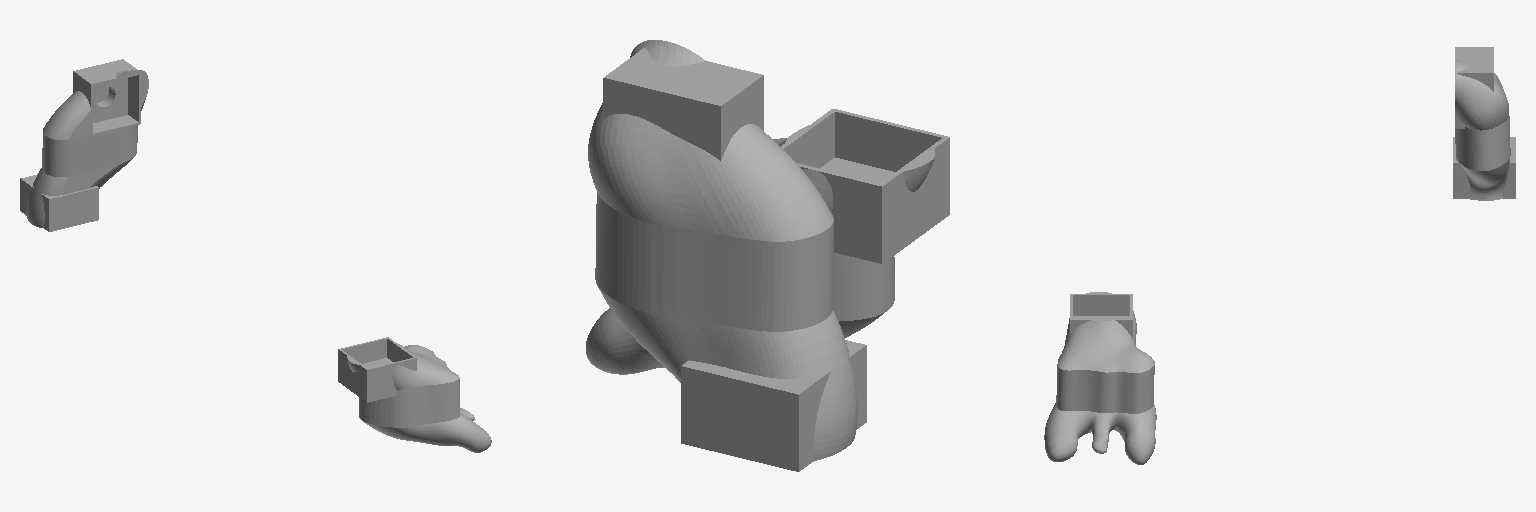
URDF robot description (FrogBot4_top-FrogBot4-x-7_bottom-FrogBot4-x-7):
<?xml version="1.0" ?>
<robot name="FrogBot4_top-FrogBot4-x-7_bottom-FrogBot4-x-7">

<material name="pla_5_percent_infill">
  <color rgba="0.700 0.700 0.700 1.000"/>
</material>

<link name="base_link">
  <inertial>
    <origin xyz="0 0 0" rpy="0 0 0"/>
    <mass value="1.4608203761339813"/>
    <inertia ixx="0.00496034401110324" iyy="0.010259632804669863" izz="0.010457868746855814" ixy="4.519338143051983e-05" iyz="5.808312742508133e-05" ixz="-0.001193761897574285"/>
  </inertial>
  <visual>
    <origin xyz="0 0 0" rpy="0 0 0"/>
    <geometry>
      <mesh filename="simple_meshes/base_link.stl" scale="0.001 0.001 0.001"/>
    </geometry>
    <material name="pla_5_percent_infill"/>
  </visual>
  <collision>
    <origin xyz="0 0 0" rpy="0 0 0"/>
    <geometry>
      <mesh filename="simple_meshes/base_link.stl" scale="0.001 0.001 0.001"/>
    </geometry>
  </collision>
</link>

<link name="body_1_0_1">
  <inertial>
    <origin xyz="-0.039935 -0.102508 -0.020563" rpy="0 0 0"/>
    <mass value="0.08806907417557021"/>
    <inertia ixx="0.00012049356356625958" iyy="0.00013686455339734474" izz="3.8516166821696155e-05" ixy="1.0189695669821303e-06" iyz="2.991540384396341e-06" ixz="-1.6095274941338198e-05"/>
  </inertial>
  <visual>
    <origin xyz="-0.039935 -0.102508 -0.020563" rpy="0 0 0"/>
    <geometry>
      <mesh filename="simple_meshes/body_1_0_1.stl" scale="0.001 0.001 0.001"/>
    </geometry>
    <material name="pla_5_percent_infill"/>
  </visual>
  <collision>
    <origin xyz="-0.039935 -0.102508 -0.020563" rpy="0 0 0"/>
    <geometry>
      <mesh filename="simple_meshes/body_1_0_1.stl" scale="0.001 0.001 0.001"/>
    </geometry>
  </collision>
</link>

<link name="body_1_1_1">
  <inertial>
    <origin xyz="0.084829 -0.102508 0.010182" rpy="0 0 0"/>
    <mass value="0.1029391210635293"/>
    <inertia ixx="9.719745371078491e-05" iyy="0.00014832582264538165" izz="7.721916214502777e-05" ixy="-2.106756490153055e-06" iyz="1.6386066714682568e-06" ixz="-2.84998514255218e-05"/>
  </inertial>
  <visual>
    <origin xyz="0.084829 -0.102508 0.010182" rpy="0 0 0"/>
    <geometry>
      <mesh filename="simple_meshes/body_1_1_1.stl" scale="0.001 0.001 0.001"/>
    </geometry>
    <material name="pla_5_percent_infill"/>
  </visual>
  <collision>
    <origin xyz="0.084829 -0.102508 0.010182" rpy="0 0 0"/>
    <geometry>
      <mesh filename="simple_meshes/body_1_1_1.stl" scale="0.001 0.001 0.001"/>
    </geometry>
  </collision>
</link>

<link name="body_1_2_1">
  <inertial>
    <origin xyz="-0.032973 0.102508 -0.03352" rpy="0 0 0"/>
    <mass value="0.0941985361875743"/>
    <inertia ixx="0.00014781790499370819" iyy="0.0001626710035251385" izz="4.1745987585721685e-05" ixy="-2.672525612576525e-06" iyz="-1.3399817730806013e-05" ixz="-1.3631072601363105e-05"/>
  </inertial>
  <visual>
    <origin xyz="-0.032973 0.102508 -0.03352" rpy="0 0 0"/>
    <geometry>
      <mesh filename="simple_meshes/body_1_2_1.stl" scale="0.001 0.001 0.001"/>
    </geometry>
    <material name="pla_5_percent_infill"/>
  </visual>
  <collision>
    <origin xyz="-0.032973 0.102508 -0.03352" rpy="0 0 0"/>
    <geometry>
      <mesh filename="simple_meshes/body_1_2_1.stl" scale="0.001 0.001 0.001"/>
    </geometry>
  </collision>
</link>

<link name="body_1_3_1">
  <inertial>
    <origin xyz="0.075405 0.102508 -0.000907" rpy="0 0 0"/>
    <mass value="0.10917235034942493"/>
    <inertia ixx="0.00010674321912296659" iyy="0.00015894901746545836" izz="8.067615208341879e-05" ixy="1.3409614431293855e-07" iyz="-1.6970439278731061e-06" ixz="-2.820375962325609e-05"/>
  </inertial>
  <visual>
    <origin xyz="0.075405 0.102508 -0.000907" rpy="0 0 0"/>
    <geometry>
      <mesh filename="simple_meshes/body_1_3_1.stl" scale="0.001 0.001 0.001"/>
    </geometry>
    <material name="pla_5_percent_infill"/>
  </visual>
  <collision>
    <origin xyz="0.075405 0.102508 -0.000907" rpy="0 0 0"/>
    <geometry>
      <mesh filename="simple_meshes/body_1_3_1.stl" scale="0.001 0.001 0.001"/>
    </geometry>
  </collision>
</link>

<link name="body_2_0_1">
  <inertial>
    <origin xyz="-0.025656 -0.145015 0.120436" rpy="0 0 0"/>
    <mass value="0.11635133974770652"/>
    <inertia ixx="9.74748840274443e-05" iyy="0.00011934417607174352" izz="0.00011483751253826922" ixy="-2.876155988833576e-07" iyz="1.020021458159482e-06" ixz="2.5302760128082706e-05"/>
  </inertial>
  <visual>
    <origin xyz="-0.025656 -0.145015 0.120436" rpy="0 0 0"/>
    <geometry>
      <mesh filename="simple_meshes/body_2_0_1.stl" scale="0.001 0.001 0.001"/>
    </geometry>
    <material name="pla_5_percent_infill"/>
  </visual>
  <collision>
    <origin xyz="-0.025656 -0.145015 0.120436" rpy="0 0 0"/>
    <geometry>
      <mesh filename="simple_meshes/body_2_0_1.stl" scale="0.001 0.001 0.001"/>
    </geometry>
  </collision>
</link>

<link name="body_2_1_1">
  <inertial>
    <origin xyz="0.114857 -0.145661 0.120438" rpy="0 0 0"/>
    <mass value="0.09928363723516312"/>
    <inertia ixx="7.267018725068495e-05" iyy="0.0001071929889748047" izz="8.167884557088757e-05" ixy="-3.150545319302025e-06" iyz="5.95418279835877e-06" ixz="2.595192462056346e-05"/>
  </inertial>
  <visual>
    <origin xyz="0.114857 -0.145661 0.120438" rpy="0 0 0"/>
    <geometry>
      <mesh filename="simple_meshes/body_2_1_1.stl" scale="0.001 0.001 0.001"/>
    </geometry>
    <material name="pla_5_percent_infill"/>
  </visual>
  <collision>
    <origin xyz="0.114857 -0.145661 0.120438" rpy="0 0 0"/>
    <geometry>
      <mesh filename="simple_meshes/body_2_1_1.stl" scale="0.001 0.001 0.001"/>
    </geometry>
  </collision>
</link>

<link name="body_2_2_1">
  <inertial>
    <origin xyz="-0.022601 0.152053 0.120436" rpy="0 0 0"/>
    <mass value="0.1258670170742875"/>
    <inertia ixx="0.00010483389591859401" iyy="0.00013170263491416034" izz="0.0001236093088681019" ixy="-3.5660109023371786e-06" iyz="-8.461715890690016e-07" ixz="2.8156129153104762e-05"/>
  </inertial>
  <visual>
    <origin xyz="-0.022601 0.152053 0.120436" rpy="0 0 0"/>
    <geometry>
      <mesh filename="simple_meshes/body_2_2_1.stl" scale="0.001 0.001 0.001"/>
    </geometry>
    <material name="pla_5_percent_infill"/>
  </visual>
  <collision>
    <origin xyz="-0.022601 0.152053 0.120436" rpy="0 0 0"/>
    <geometry>
      <mesh filename="simple_meshes/body_2_2_1.stl" scale="0.001 0.001 0.001"/>
    </geometry>
  </collision>
</link>

<link name="body_2_3_1">
  <inertial>
    <origin xyz="0.12145 0.146005 0.120436" rpy="0 0 0"/>
    <mass value="0.10434137259463774"/>
    <inertia ixx="8.969585810559167e-05" iyy="9.703129321476413e-05" izz="9.775546545465587e-05" ixy="6.002398089952022e-06" iyz="-1.0557005019453617e-05" ixz="1.8072735171900407e-05"/>
  </inertial>
  <visual>
    <origin xyz="0.12145 0.146005 0.120436" rpy="0 0 0"/>
    <geometry>
      <mesh filename="simple_meshes/body_2_3_1.stl" scale="0.001 0.001 0.001"/>
    </geometry>
    <material name="pla_5_percent_infill"/>
  </visual>
  <collision>
    <origin xyz="0.12145 0.146005 0.120436" rpy="0 0 0"/>
    <geometry>
      <mesh filename="simple_meshes/body_2_3_1.stl" scale="0.001 0.001 0.001"/>
    </geometry>
  </collision>
</link>

<joint name="joint_1_0" type="revolute">
  <origin xyz="0.039935 0.102508 0.020563" rpy="0 0 0"/>
  <parent link="base_link"/>
  <child link="body_1_0_1"/>
  <axis xyz="1.0 0.0 0.0"/>
  <limit upper="1.2" lower="-1.2" effort="3.8" velocity="5.4"/>
</joint>
<transmission name="joint_1_0_tran">
  <type>transmission_interface/SimpleTransmission</type>
  <joint name="joint_1_0">
    <hardwareInterface>PositionJointInterface</hardwareInterface>
  </joint>
  <actuator name="joint_1_0_actr">
    <hardwareInterface>PositionJointInterface</hardwareInterface>
    <mechanicalReduction>1</mechanicalReduction>
  </actuator>
</transmission>

<joint name="joint_1_1" type="revolute">
  <origin xyz="-0.084829 0.102508 -0.010182" rpy="0 0 0"/>
  <parent link="base_link"/>
  <child link="body_1_1_1"/>
  <axis xyz="1.0 0.0 0.0"/>
  <limit upper="1.2" lower="-1.2" effort="3.8" velocity="5.4"/>
</joint>
<transmission name="joint_1_1_tran">
  <type>transmission_interface/SimpleTransmission</type>
  <joint name="joint_1_1">
    <hardwareInterface>PositionJointInterface</hardwareInterface>
  </joint>
  <actuator name="joint_1_1_actr">
    <hardwareInterface>PositionJointInterface</hardwareInterface>
    <mechanicalReduction>1</mechanicalReduction>
  </actuator>
</transmission>

<joint name="joint_1_2" type="revolute">
  <origin xyz="0.032973 -0.102508 0.03352" rpy="0 0 0"/>
  <parent link="base_link"/>
  <child link="body_1_2_1"/>
  <axis xyz="1.0 0.0 0.0"/>
  <limit upper="1.2" lower="-1.2" effort="3.8" velocity="5.4"/>
</joint>
<transmission name="joint_1_2_tran">
  <type>transmission_interface/SimpleTransmission</type>
  <joint name="joint_1_2">
    <hardwareInterface>PositionJointInterface</hardwareInterface>
  </joint>
  <actuator name="joint_1_2_actr">
    <hardwareInterface>PositionJointInterface</hardwareInterface>
    <mechanicalReduction>1</mechanicalReduction>
  </actuator>
</transmission>

<joint name="joint_1_3" type="revolute">
  <origin xyz="-0.075405 -0.102508 0.000907" rpy="0 0 0"/>
  <parent link="base_link"/>
  <child link="body_1_3_1"/>
  <axis xyz="1.0 0.0 0.0"/>
  <limit upper="1.2" lower="-1.2" effort="3.8" velocity="5.4"/>
</joint>
<transmission name="joint_1_3_tran">
  <type>transmission_interface/SimpleTransmission</type>
  <joint name="joint_1_3">
    <hardwareInterface>PositionJointInterface</hardwareInterface>
  </joint>
  <actuator name="joint_1_3_actr">
    <hardwareInterface>PositionJointInterface</hardwareInterface>
    <mechanicalReduction>1</mechanicalReduction>
  </actuator>
</transmission>

<joint name="joint_2_0" type="revolute">
  <origin xyz="-0.014279 0.042507 -0.140999" rpy="0 0 0"/>
  <parent link="body_1_0_1"/>
  <child link="body_2_0_1"/>
  <axis xyz="1.0 0.0 0.0"/>
  <limit upper="1.2" lower="-1.2" effort="3.8" velocity="5.4"/>
</joint>
<transmission name="joint_2_0_tran">
  <type>transmission_interface/SimpleTransmission</type>
  <joint name="joint_2_0">
    <hardwareInterface>PositionJointInterface</hardwareInterface>
  </joint>
  <actuator name="joint_2_0_actr">
    <hardwareInterface>PositionJointInterface</hardwareInterface>
    <mechanicalReduction>1</mechanicalReduction>
  </actuator>
</transmission>

<joint name="joint_2_1" type="revolute">
  <origin xyz="-0.030028 0.043153 -0.110256" rpy="0 0 0"/>
  <parent link="body_1_1_1"/>
  <child link="body_2_1_1"/>
  <axis xyz="1.0 0.0 0.0"/>
  <limit upper="1.2" lower="-1.2" effort="3.8" velocity="5.4"/>
</joint>
<transmission name="joint_2_1_tran">
  <type>transmission_interface/SimpleTransmission</type>
  <joint name="joint_2_1">
    <hardwareInterface>PositionJointInterface</hardwareInterface>
  </joint>
  <actuator name="joint_2_1_actr">
    <hardwareInterface>PositionJointInterface</hardwareInterface>
    <mechanicalReduction>1</mechanicalReduction>
  </actuator>
</transmission>

<joint name="joint_2_2" type="revolute">
  <origin xyz="-0.010372 -0.049545 -0.153956" rpy="0 0 0"/>
  <parent link="body_1_2_1"/>
  <child link="body_2_2_1"/>
  <axis xyz="1.0 0.0 0.0"/>
  <limit upper="1.2" lower="-1.2" effort="3.8" velocity="5.4"/>
</joint>
<transmission name="joint_2_2_tran">
  <type>transmission_interface/SimpleTransmission</type>
  <joint name="joint_2_2">
    <hardwareInterface>PositionJointInterface</hardwareInterface>
  </joint>
  <actuator name="joint_2_2_actr">
    <hardwareInterface>PositionJointInterface</hardwareInterface>
    <mechanicalReduction>1</mechanicalReduction>
  </actuator>
</transmission>

<joint name="joint_2_3" type="revolute">
  <origin xyz="-0.046045 -0.043497 -0.121343" rpy="0 0 0"/>
  <parent link="body_1_3_1"/>
  <child link="body_2_3_1"/>
  <axis xyz="1.0 0.0 0.0"/>
  <limit upper="1.2" lower="-1.2" effort="3.8" velocity="5.4"/>
</joint>
<transmission name="joint_2_3_tran">
  <type>transmission_interface/SimpleTransmission</type>
  <joint name="joint_2_3">
    <hardwareInterface>PositionJointInterface</hardwareInterface>
  </joint>
  <actuator name="joint_2_3_actr">
    <hardwareInterface>PositionJointInterface</hardwareInterface>
    <mechanicalReduction>1</mechanicalReduction>
  </actuator>
</transmission>

</robot>

--- Facts derived from the render (not from the file) ---
3 views of the same robot in one strip: view 1: azimuth 30°, elevation 25°; view 2: azimuth 150°, elevation 25°; view 3: azimuth 270°, elevation 25° (orthographic).
Model FrogBot4_top-FrogBot4-x-7_bottom-FrogBot4-x-7 with 9 links and 8 joints (8 revolute), rooted at base_link, posed all joints at 0.
Visible links, largest first — view 1: body_1_1_1, body_2_2_1; view 2: body_1_1_1, body_2_2_1; view 3: body_2_2_1, body_1_1_1.
Boxes of the visible links, bbox=[...] form: body_1_1_1: bbox=[20, 59, 148, 231]; body_2_2_1: bbox=[338, 337, 491, 452]; body_1_1_1: bbox=[588, 40, 866, 471]; body_2_2_1: bbox=[586, 109, 949, 374]; body_2_2_1: bbox=[1044, 292, 1156, 464]; body_1_1_1: bbox=[1453, 47, 1515, 200].
Bounding box of the posed robot: 0.2606 × 0.3663 × 0.2669 m (x, y, z).
2 mesh visuals loaded from 9 distinct referenced files (2 binary STL); not drawn: 7 (reference not matched to a file when rendering).